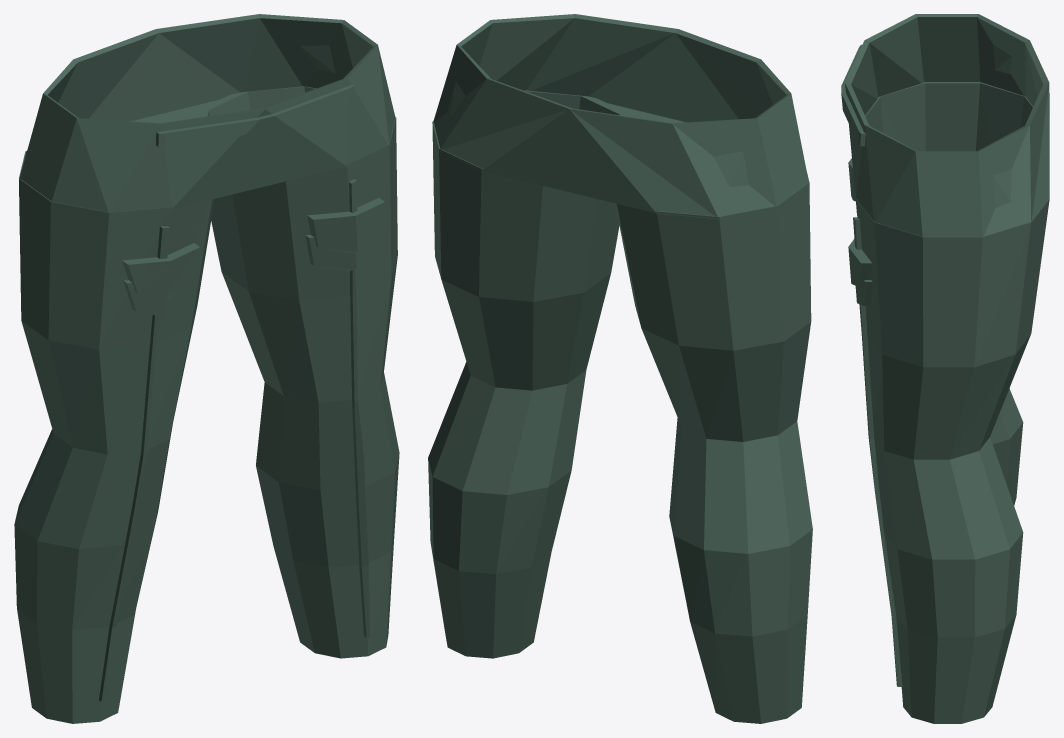
Rendered from leather_legs-female-scaledHide.glb.
The picture shows the model from 3 angles, left to right: view 1: azimuth 30°, elevation 25°; view 2: azimuth 150°, elevation 25°; view 3: azimuth 270°, elevation 25°; orthographic projection. The views are drawn at different scales.
Visible parts, largest first — view 1: leather trouser leg -1, leather trouser leg 1, leather trouser pelvis yoke, Trouser reinforced front seam 1, Trouser reinforced front seam -1, Trouser waist facing, Lapped hide reinforcement leather trouser leg 1 0, Lapped hide reinforcement leather trouser leg -1 0, Lapped hide reinforcement leather trouser leg 1 1, Lapped hide reinforcement leather trouser leg -1 1; view 2: leather trouser leg -1, leather trouser leg 1, leather trouser pelvis yoke; view 3: leather trouser leg 1, leather trouser pelvis yoke, leather trouser leg -1, Trouser reinforced front seam 1, Lapped hide reinforcement leather trouser leg 1 0, Trouser waist facing, Lapped hide reinforcement leather trouser leg 1 1.
Part boxes in pixels (<box>): leather trouser leg -1: <box>14,151,214,723</box>; leather trouser leg 1: <box>198,86,399,658</box>; leather trouser pelvis yoke: <box>19,14,395,212</box>; Trouser reinforced front seam 1: <box>349,179,372,637</box>; Trouser reinforced front seam -1: <box>99,226,170,701</box>; Trouser waist facing: <box>156,84,355,146</box>; Lapped hide reinforcement leather trouser leg 1 0: <box>307,198,384,253</box>; Lapped hide reinforcement leather trouser leg -1 0: <box>122,243,199,298</box>; Lapped hide reinforcement leather trouser leg 1 1: <box>305,221,381,272</box>; Lapped hide reinforcement leather trouser leg -1 1: <box>123,265,197,316</box>; leather trouser leg -1: <box>615,174,812,723</box>; leather trouser leg 1: <box>428,90,628,658</box>; leather trouser pelvis yoke: <box>433,14,808,218</box>; leather trouser leg 1: <box>856,198,1049,723</box>; leather trouser pelvis yoke: <box>845,14,1049,236</box>; leather trouser leg -1: <box>865,82,1032,505</box>; Trouser reinforced front seam 1: <box>853,217,902,686</box>; Lapped hide reinforcement leather trouser leg 1 0: <box>848,239,872,287</box>; Trouser waist facing: <box>841,44,865,146</box>; Lapped hide reinforcement leather trouser leg 1 1: <box>855,280,872,305</box>.
Size of the model in its own units: 2.17 by 3.45 by 1.16.
